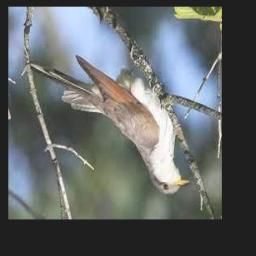Cuckoo: (62, 55, 190, 194)
